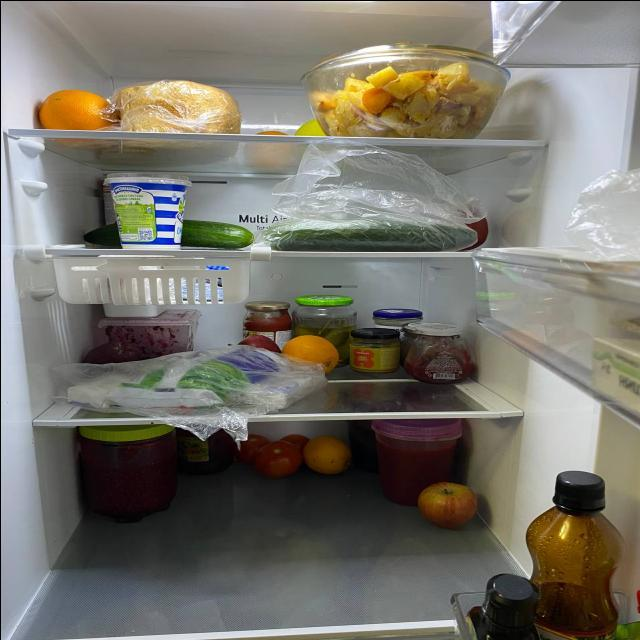Apple: (419, 480, 481, 527), (238, 333, 272, 350), (476, 214, 490, 243)
Cucumber: (257, 225, 473, 248), (182, 217, 254, 246), (72, 213, 126, 246)
Orange: (34, 87, 119, 135), (298, 436, 351, 476), (286, 335, 340, 370), (249, 127, 288, 137)
Tomato: (254, 441, 298, 472), (238, 436, 264, 458), (282, 433, 306, 441)
